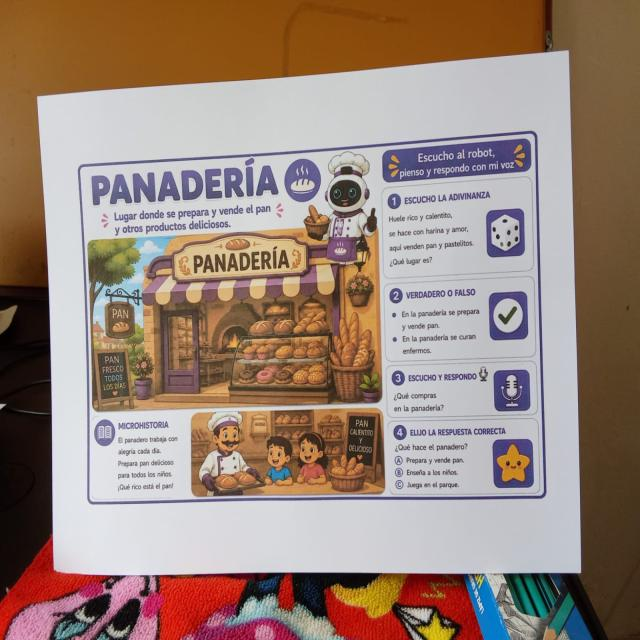panaderia: (72, 124, 551, 511)
